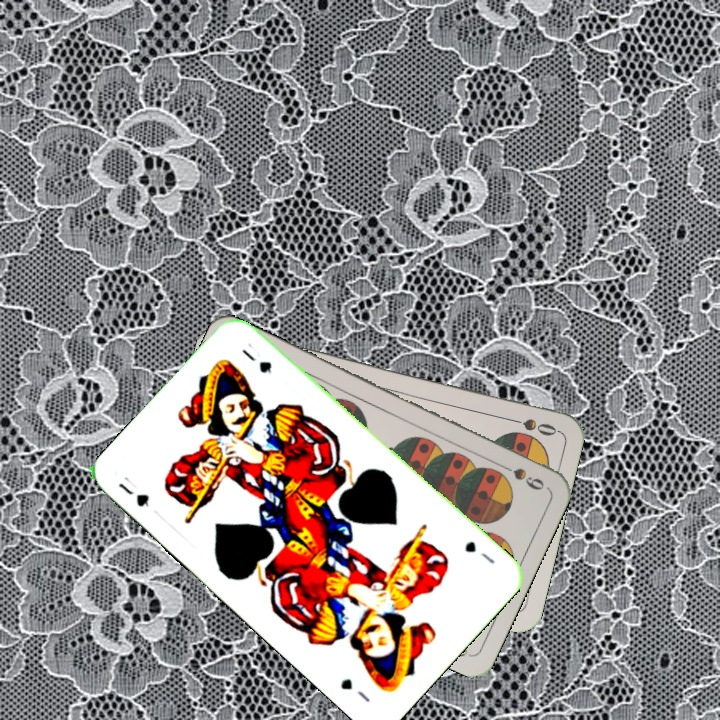GU: (114, 472, 152, 510), (461, 537, 498, 567)
S9: (492, 458, 547, 493)
SO: (501, 413, 560, 439)
